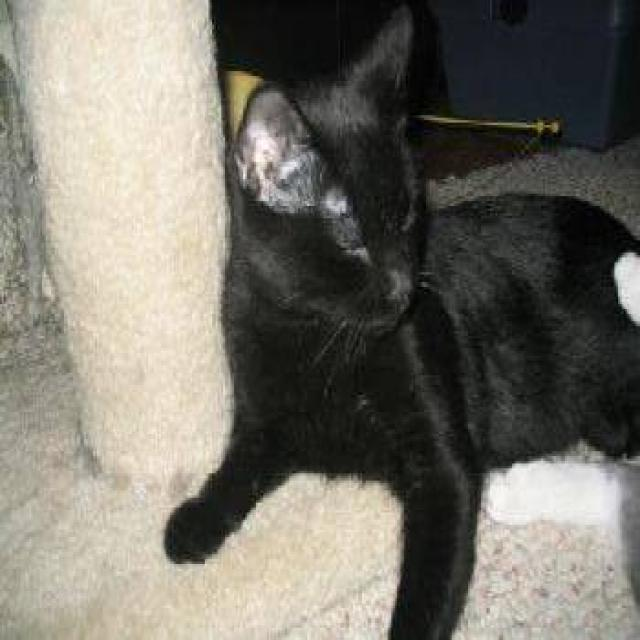cat: (161, 2, 638, 638)
